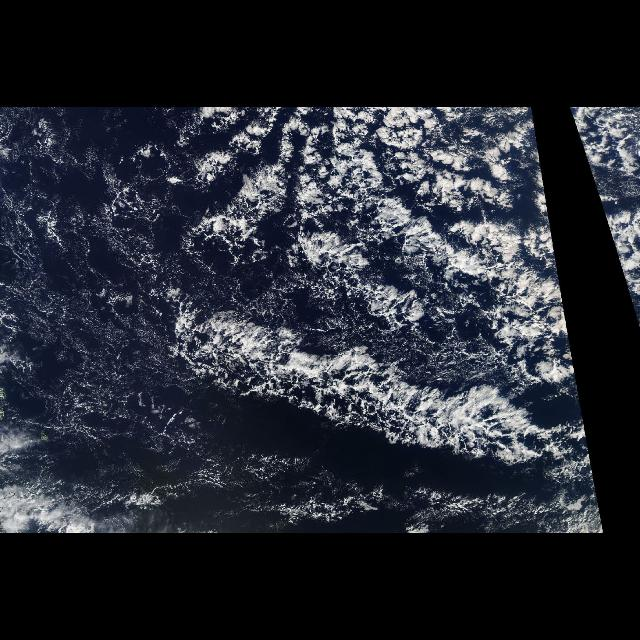Fish: (142, 295, 570, 485)
Gravel: (0, 110, 568, 422), (568, 109, 640, 327)
Sugar: (0, 108, 166, 526)
